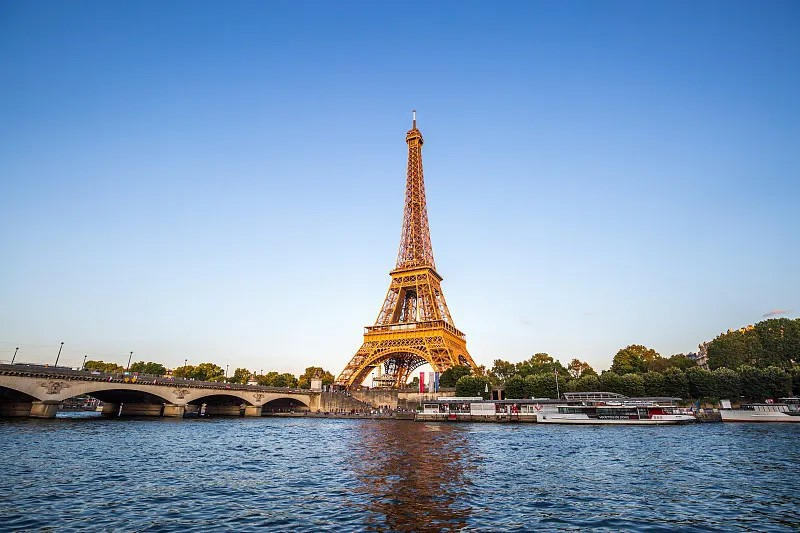Eiffel: (333, 111, 482, 393)
